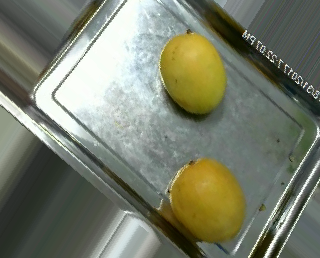Mango: (164, 152, 255, 247), (154, 25, 238, 125)
